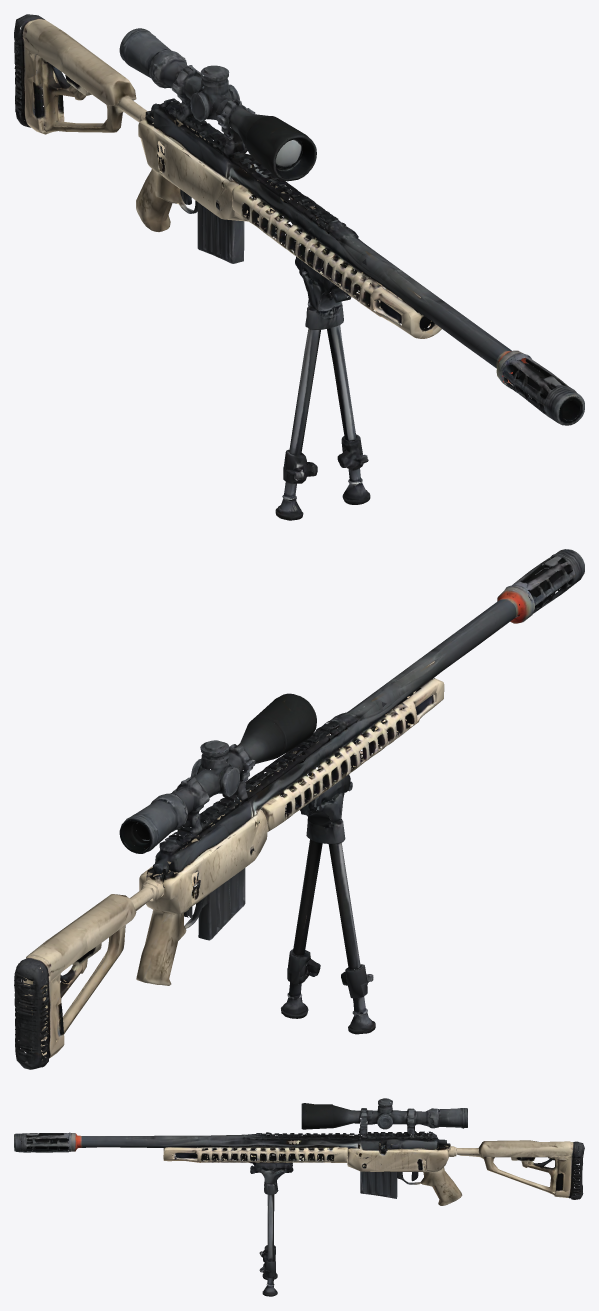
The model's file is sniper.glb.
3 views of the same model, one above another, from view 1: azimuth 30°, elevation 25°; view 2: azimuth 150°, elevation 25°; view 3: azimuth 270°, elevation 25° (orthographic). The views are drawn at different scales.
Visible parts, largest first — view 1: model; view 2: model; view 3: model.
Part boxes in pixels (bbox=[...]): model: bbox=[14, 14, 584, 520]; model: bbox=[14, 549, 584, 1069]; model: bbox=[14, 1098, 584, 1296].
Bounding box in the file's own units: 5968 × 22621 × 62513.
Materials: 1 (1 with a texture image).
